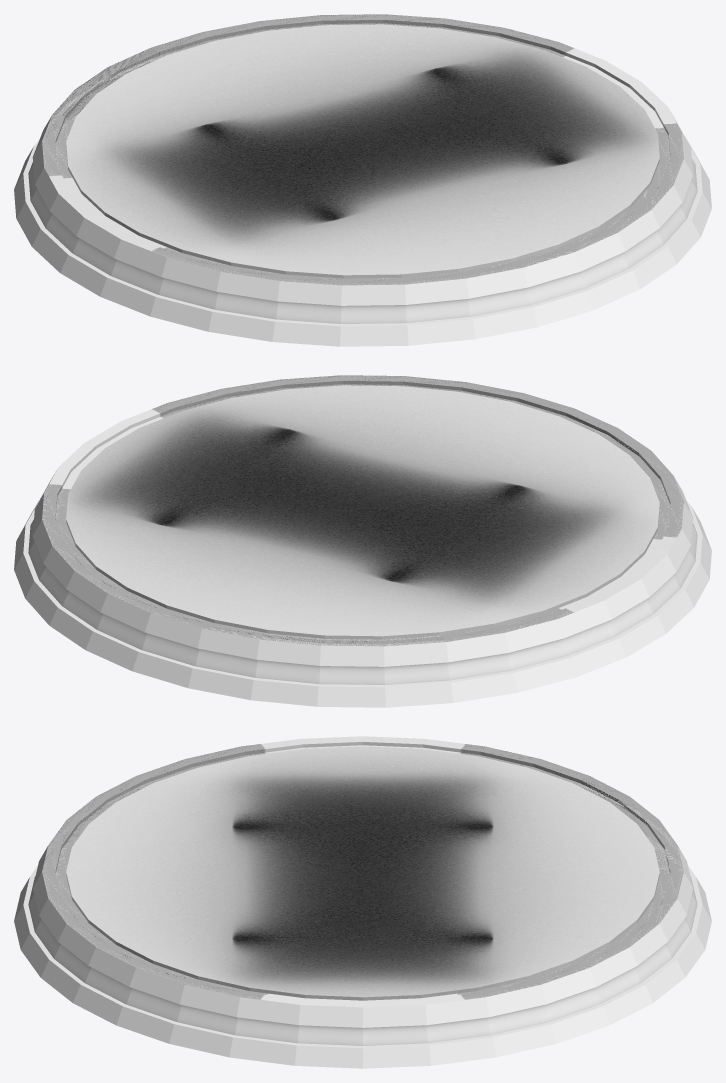
File: BaseCar.fbx
3 renders of one model, top to bottom at view 1: azimuth 30°, elevation 25°; view 2: azimuth 150°, elevation 25°; view 3: azimuth 270°, elevation 25°, orthographic.
Visible parts, largest first — view 1: Cylinder; view 2: Cylinder; view 3: Cylinder.
Part boxes in pixels (bbox=[...]): Cylinder: bbox=[14, 14, 711, 346]; Cylinder: bbox=[14, 375, 711, 707]; Cylinder: bbox=[14, 736, 711, 1068].
Bounding box in the file's own units: 321 × 25.08 × 321.
